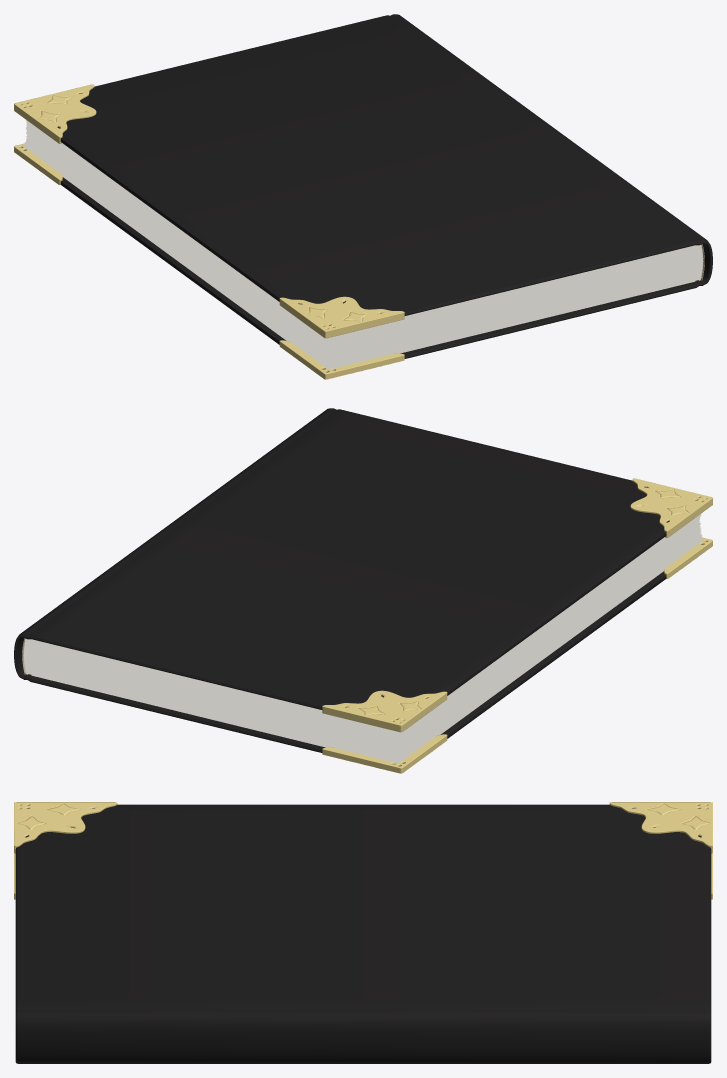
File: diary-book.glb
3 views of the same model, one above another, from view 1: azimuth 30°, elevation 25°; view 2: azimuth 150°, elevation 25°; view 3: azimuth 270°, elevation 25° (orthographic). The views are drawn at different scales.
Parts seen in each view (by area): view 1: DiaryBook; view 2: DiaryBook; view 3: DiaryBook.
Part boxes in pixels (<box>): DiaryBook: <box>14,14,712,379</box>; DiaryBook: <box>14,408,712,773</box>; DiaryBook: <box>14,802,712,1063</box>.
Bounding box in the file's own units: 1.04 × 0.1234 × 1.45.
